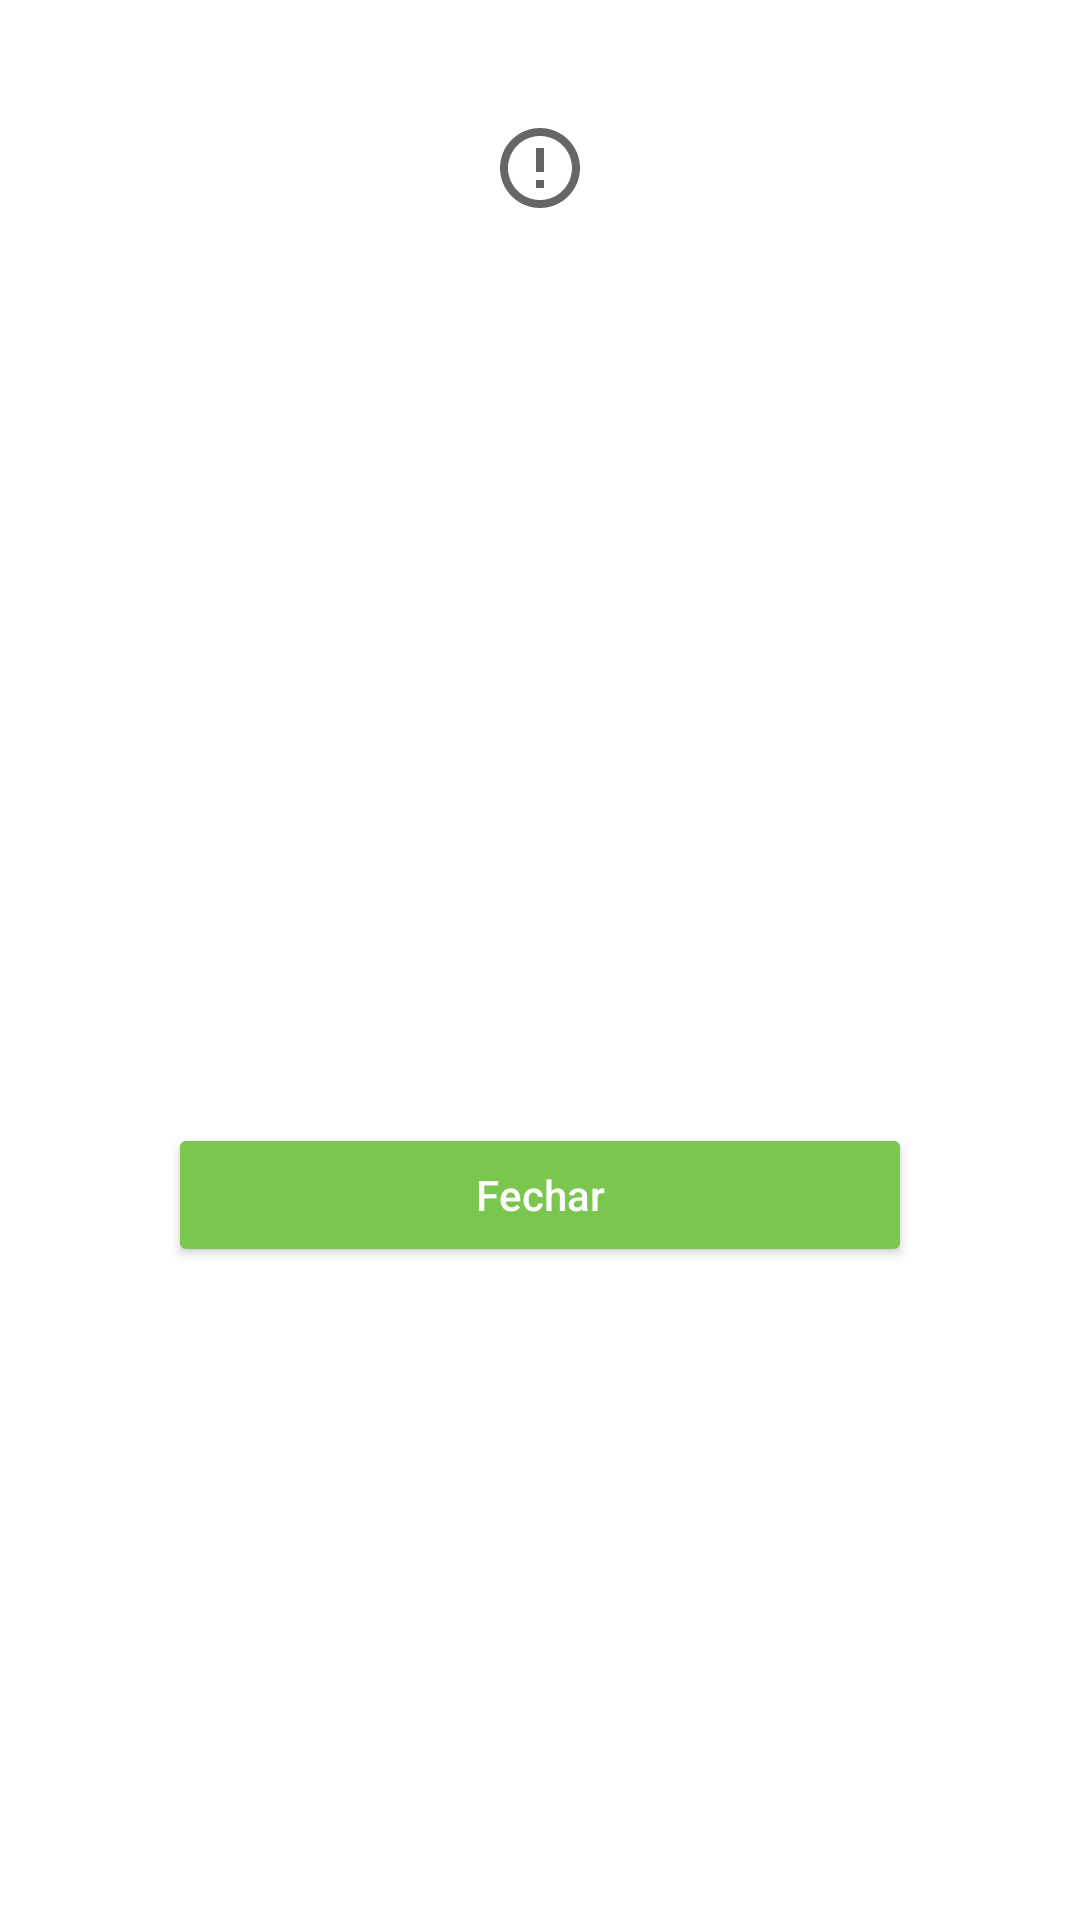

Icons on this 1080 × 1920 Android screen, each with the point to tap as (x=x, y=y):
error: (x=540, y=168)
